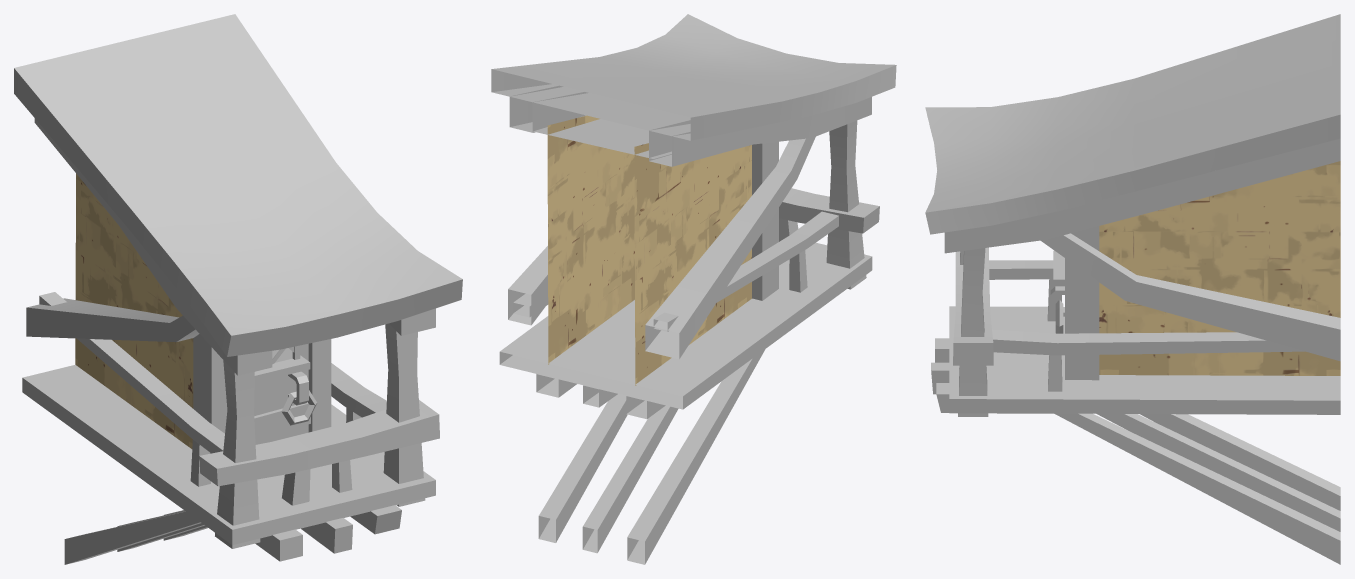
The model's file is SM_BLD_balcony_v01_01.fbx.
The picture shows the model from 3 angles, left to right: view 1: azimuth 30°, elevation 25°; view 2: azimuth 150°, elevation 25°; view 3: azimuth 270°, elevation 25°; orthographic projection. The views are drawn at different scales.
Visible parts, largest first — view 1: SM_BLD_balcony_v01_01; view 2: SM_BLD_balcony_v01_01; view 3: SM_BLD_balcony_v01_01.
Part boxes in pixels (<box>): SM_BLD_balcony_v01_01: <box>14,14,462,564</box>; SM_BLD_balcony_v01_01: <box>491,14,896,564</box>; SM_BLD_balcony_v01_01: <box>925,14,1340,564</box>.
Size of the model in its own units: 316 by 656 by 521.
